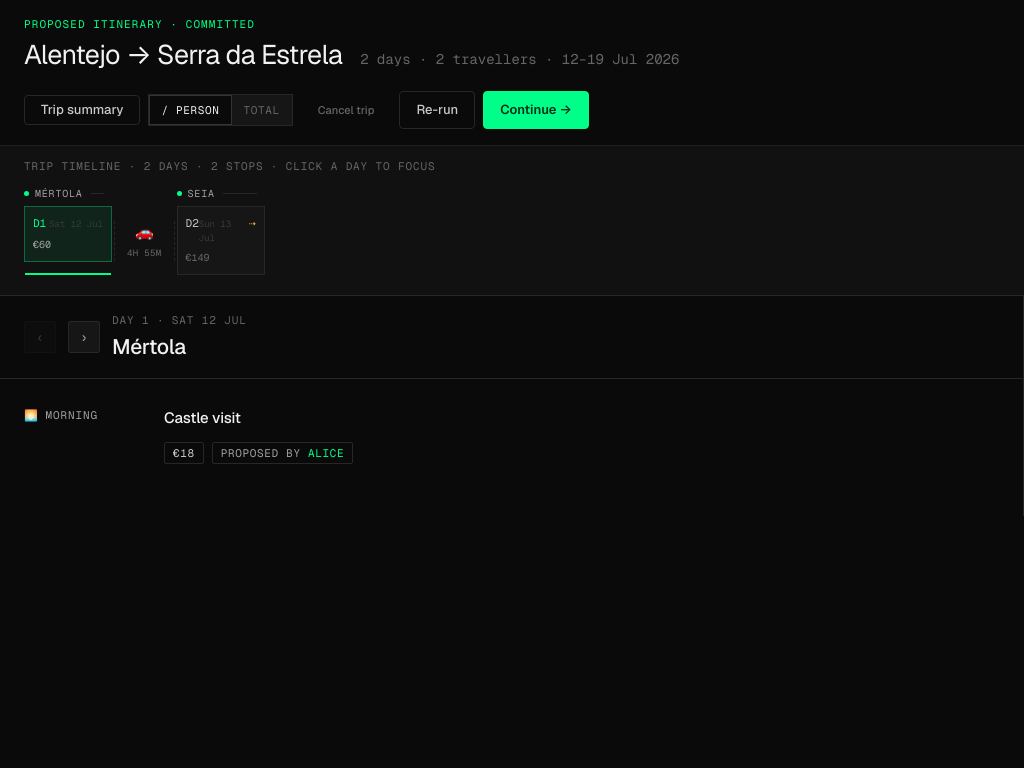
it: ItineraryStep › clicking a rail cell updates the focused day panel
What coordinates should you click on to do the following:
click the element with test id "day-cell" showing "D2 Sun 13 Jul €149"
I would click on:
 (221, 240)
Its box is 177,206 -> 265,275.
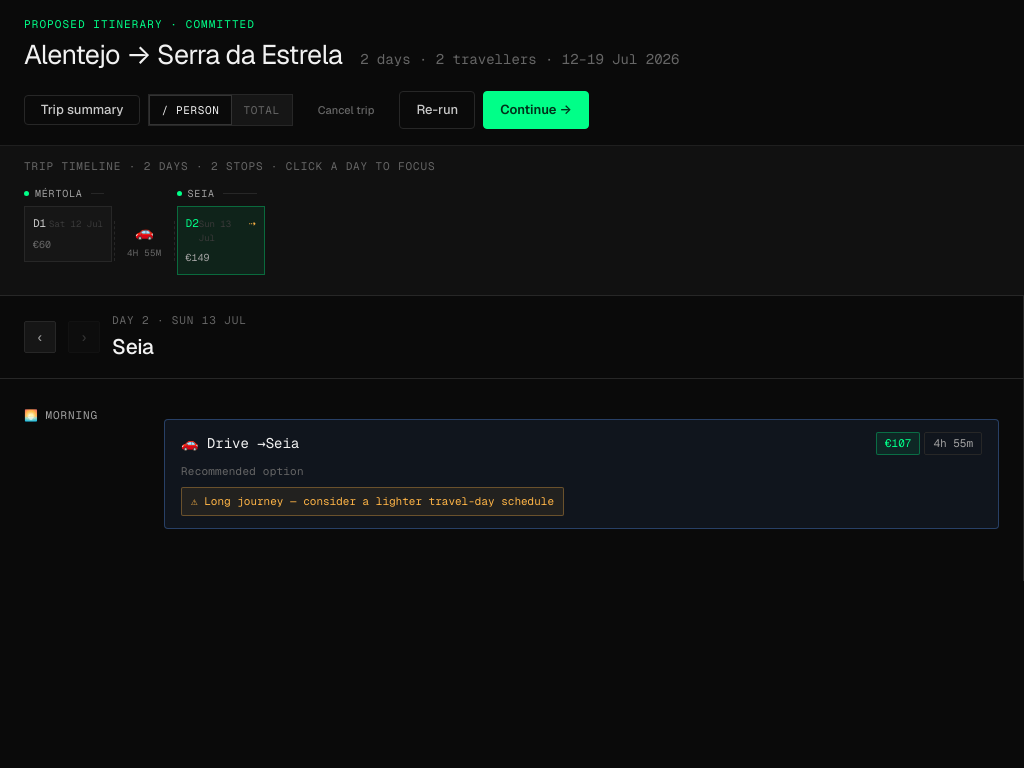
Now the heading with test id "day-city" reads "Seia", box 112,332 -> 154,360
